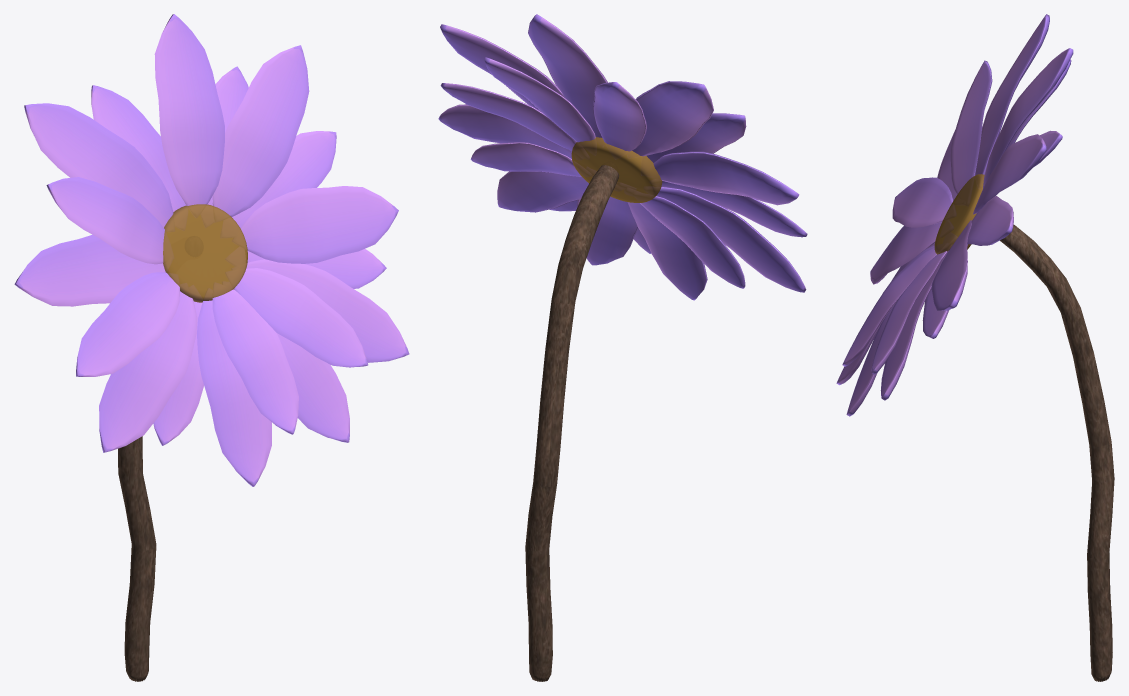
The model's file is flower.fbx.
The picture shows the model from 3 angles, left to right: view 1: azimuth 30°, elevation 25°; view 2: azimuth 150°, elevation 25°; view 3: azimuth 270°, elevation 25°; orthographic projection. The views are drawn at different scales.
Visible parts, largest first — view 1: pCube2, pCube6, pCube1, pCube8, pCube9, pCylinder1, pCube4, pCube11, pCube3, pCube12, pCube13, pCylinder2 (+8 smaller); view 2: pCylinder2, pCube3, pCube9, pCube8, pCube2, pCylinder1, pCube10, pCube4, pCube5, pCube16, pCube15, pCube14 (+6 smaller); view 3: pCylinder2, pCube18, pCube8, pCube2, pCube13, pCube6, pCube11, pCube12, pCube1, pCube9, pCylinder1, pCube5 (+5 smaller).
Part boxes in pixels (x1,y1,x2,y2): pCube2: (154,14,224,206); pCube6: (212,45,309,216); pCube1: (240,186,398,263); pCube8: (24,103,173,227); pCube9: (99,291,197,452); pCylinder1: (163,204,247,302); pCube4: (197,300,271,486); pCube11: (212,289,298,434); pCube3: (14,234,165,306); pCube12: (234,268,368,367); pCube13: (76,272,179,376); pCylinder2: (118,436,156,681); pCylinder2: (525,165,619,681); pCube3: (653,151,799,205); pCube9: (656,187,806,292); pCube8: (632,81,713,156); pCube2: (528,14,607,137); pCylinder1: (571,137,662,202); pCube10: (640,196,745,288); pCube4: (627,202,707,300); pCube5: (497,171,588,212); pCube16: (484,57,595,142); pCube15: (593,82,646,151); pCube14: (440,83,576,151); pCylinder2: (1000,225,1114,681); pCube18: (950,60,992,194); pCube8: (975,14,1049,175); pCube2: (983,48,1073,188); pCube13: (892,177,952,227); pCube6: (973,134,1046,214); pCube11: (842,247,936,366); pCube12: (871,251,947,374); pCube1: (931,220,971,310); pCube9: (870,222,941,284); pCylinder1: (934,174,984,254); pCube5: (880,250,948,400).
Size of the model in its own units: 8.57 by 14.58 by 5.74.
